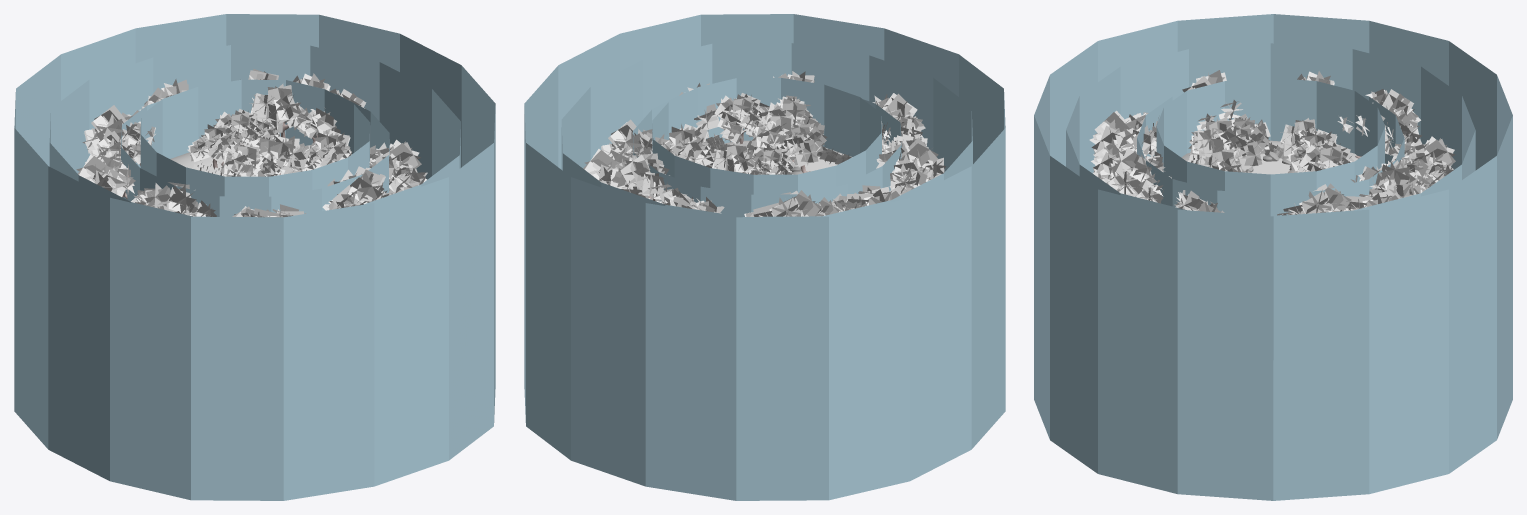
Rendered from bosquecillo_SKFB.fbx.
3 views of the same model, side by side, from view 1: azimuth 30°, elevation 25°; view 2: azimuth 150°, elevation 25°; view 3: azimuth 270°, elevation 25° (orthographic).
Parts seen in each view (by area): view 1: Plane.038, Cube.068, Cube.084, Cube.049, Cube.074, Cube.044, Cube.079, Cube.047, Cube.043, Cube.069, Cube.039, Cube.038 (+2 smaller); view 2: Plane.038, Cube.043, Cube.091, Cube.069, Cube.068, Cube.039, Cube.074, Cube.048, Cube.085, Cube.090, Cube.049, Cube.080 (+4 smaller); view 3: Plane.038, Cube.080, Cube.079, Cube.073, Cube.049, Cube.074, Cube.091, Cube.048, Cube.085, Cube.068, Cube.081, Cube.047 (+7 smaller).
Part boxes in pixels (bbox=[...]): Plane.038: bbox=[14, 14, 495, 500]; Cube.068: bbox=[249, 83, 312, 137]; Cube.084: bbox=[368, 139, 427, 194]; Cube.049: bbox=[251, 136, 314, 176]; Cube.074: bbox=[82, 105, 155, 165]; Cube.044: bbox=[76, 150, 137, 199]; Cube.079: bbox=[322, 166, 386, 210]; Cube.047: bbox=[187, 123, 237, 169]; Cube.043: bbox=[133, 182, 196, 215]; Cube.069: bbox=[305, 130, 351, 169]; Cube.039: bbox=[220, 144, 263, 176]; Cube.038: bbox=[215, 109, 262, 146]; Plane.038: bbox=[524, 14, 1005, 500]; Cube.043: bbox=[876, 134, 946, 190]; Cube.091: bbox=[608, 152, 672, 201]; Cube.069: bbox=[714, 93, 764, 143]; Cube.068: bbox=[651, 124, 713, 165]; Cube.039: bbox=[780, 122, 827, 173]; Cube.074: bbox=[744, 190, 821, 216]; Cube.048: bbox=[751, 113, 799, 150]; Cube.085: bbox=[601, 119, 668, 155]; Cube.090: bbox=[583, 145, 637, 185]; Cube.049: bbox=[760, 96, 824, 162]; Cube.080: bbox=[872, 93, 925, 140]; Plane.038: bbox=[1034, 14, 1512, 500]; Cube.080: bbox=[1089, 110, 1157, 158]; Cube.079: bbox=[1106, 147, 1165, 196]; Cube.073: bbox=[1391, 136, 1455, 186]; Cube.049: bbox=[1188, 117, 1246, 161]; Cube.074: bbox=[1355, 89, 1420, 158]; Cube.091: bbox=[1358, 159, 1422, 198]; Cube.048: bbox=[1224, 123, 1269, 170]; Cube.085: bbox=[1277, 183, 1351, 215]; Cube.068: bbox=[1299, 141, 1357, 182]; Cube.081: bbox=[1091, 141, 1146, 182]; Cube.047: bbox=[1280, 118, 1316, 156].
Bounding box in the file's own units: 7770 × 5096 × 7770.
